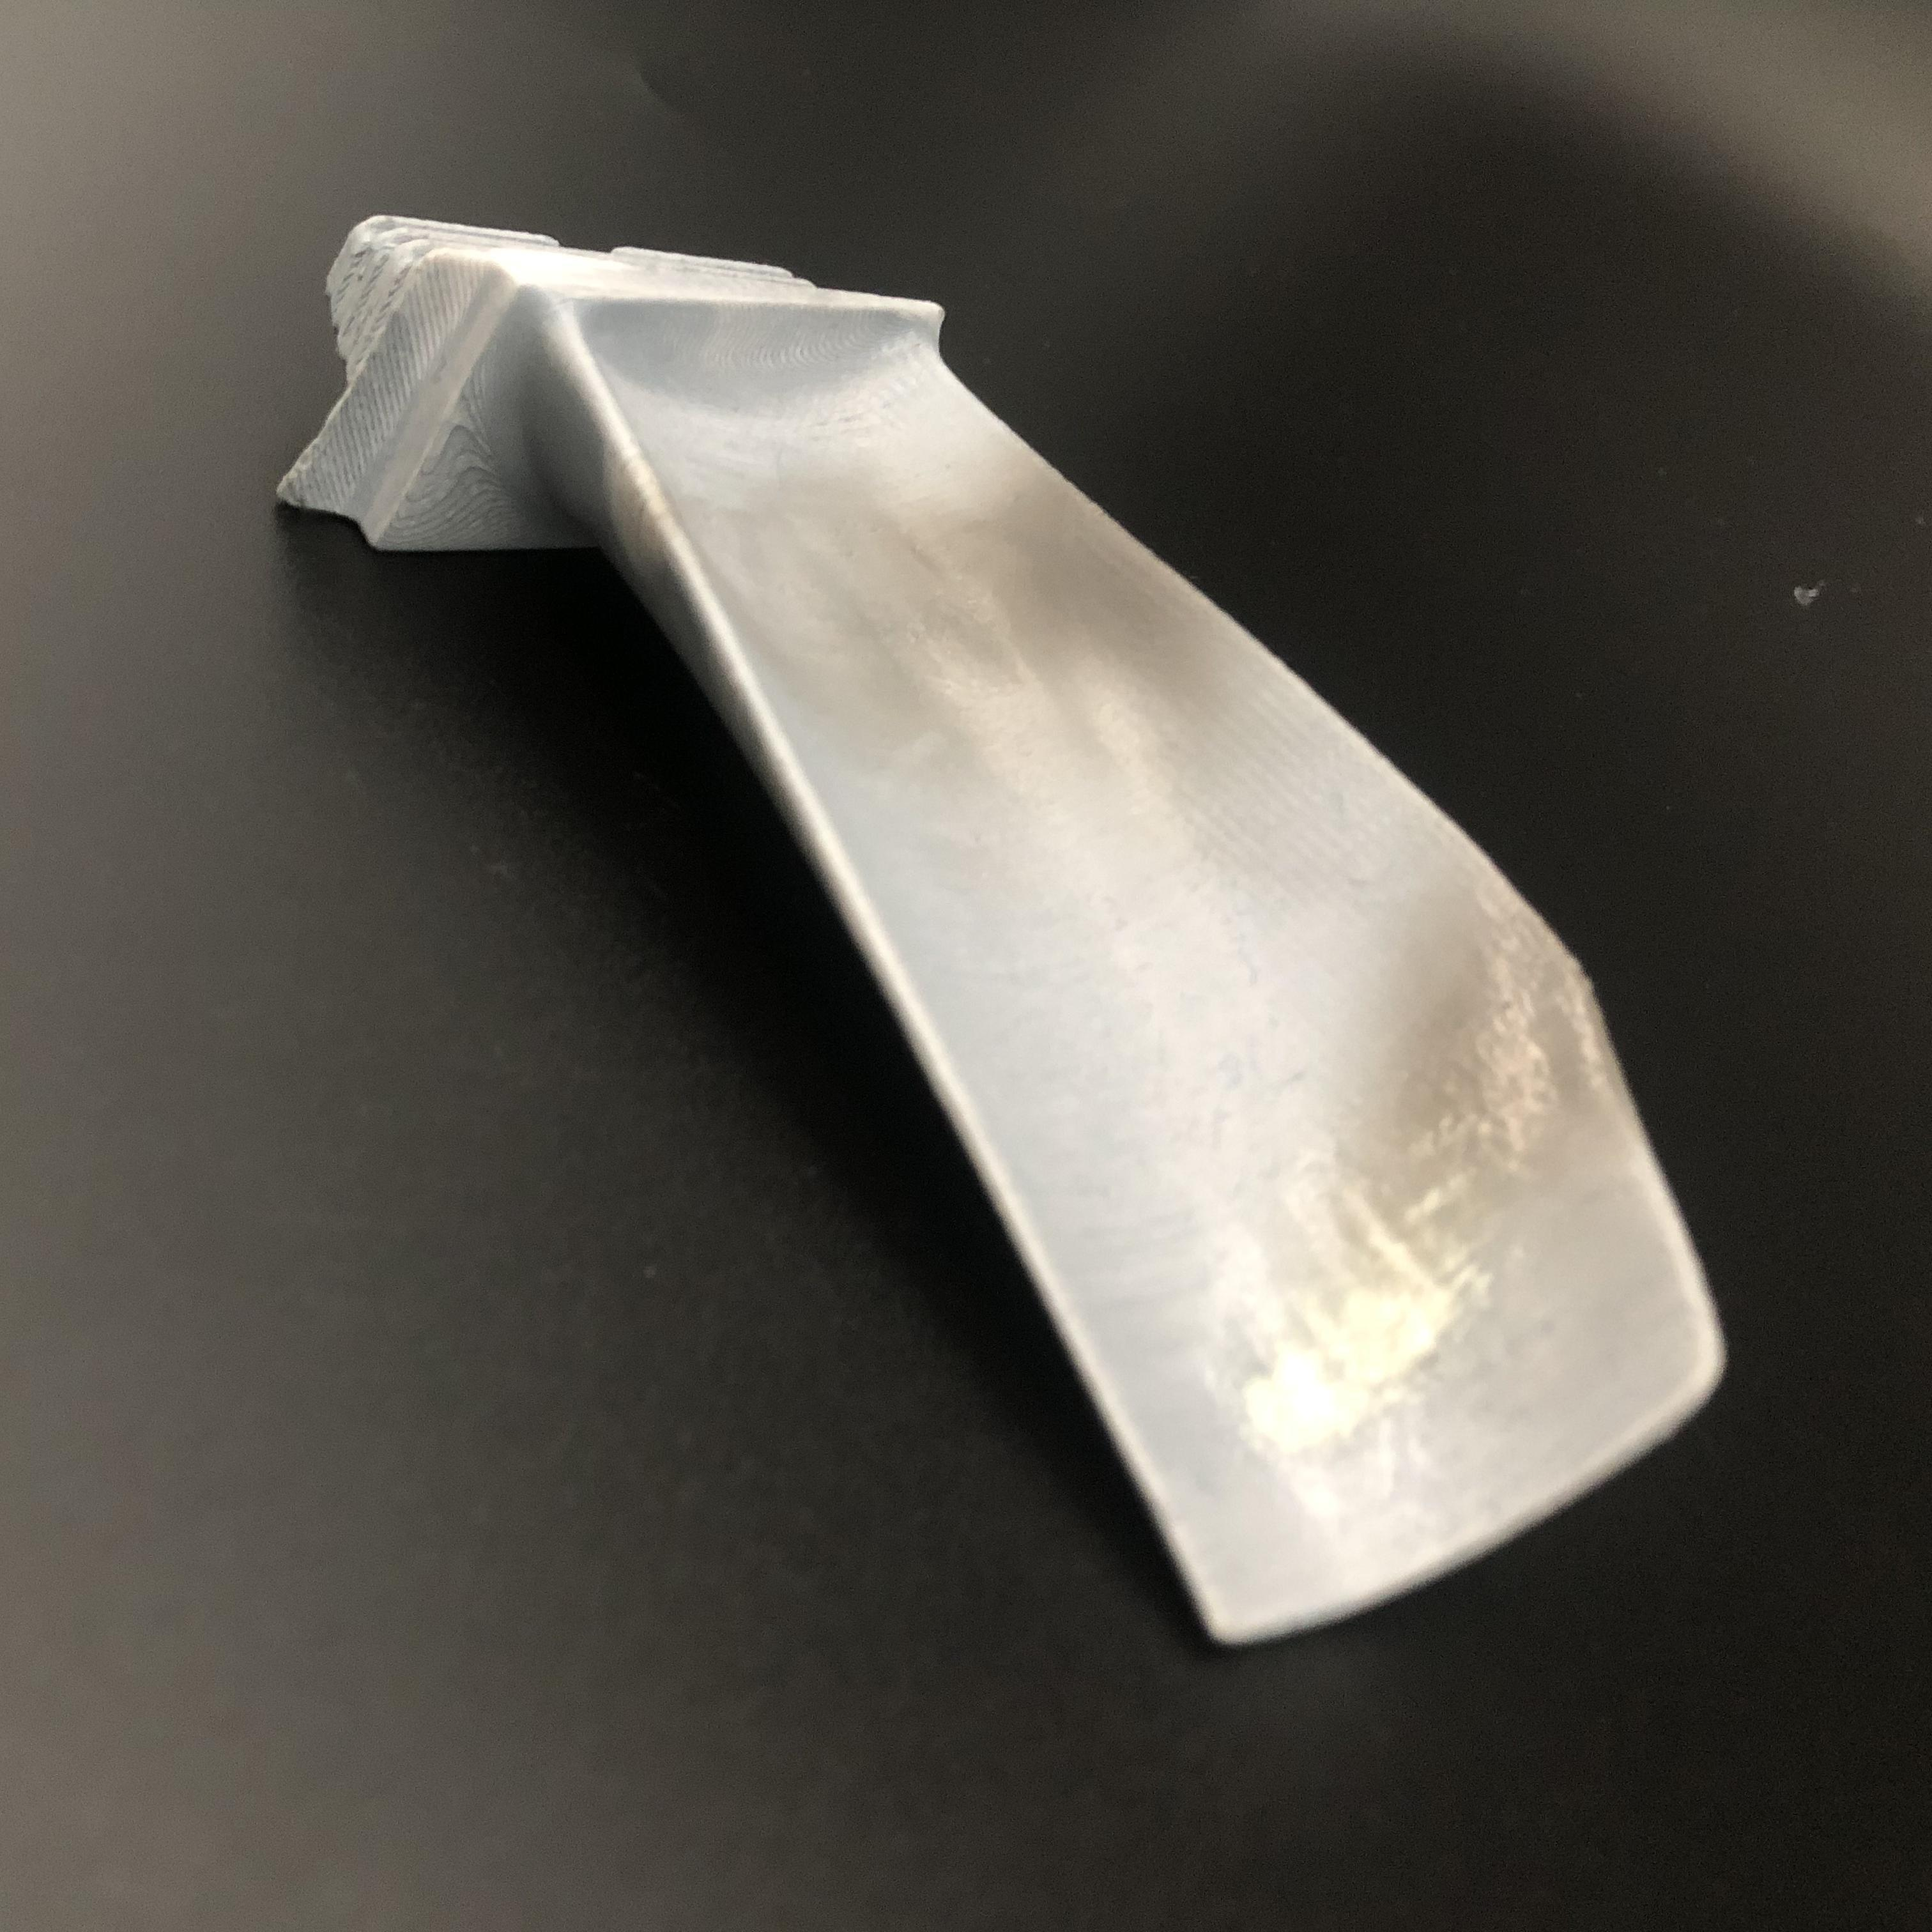ablation: (1304, 924, 1615, 1460), (688, 517, 1277, 773)
